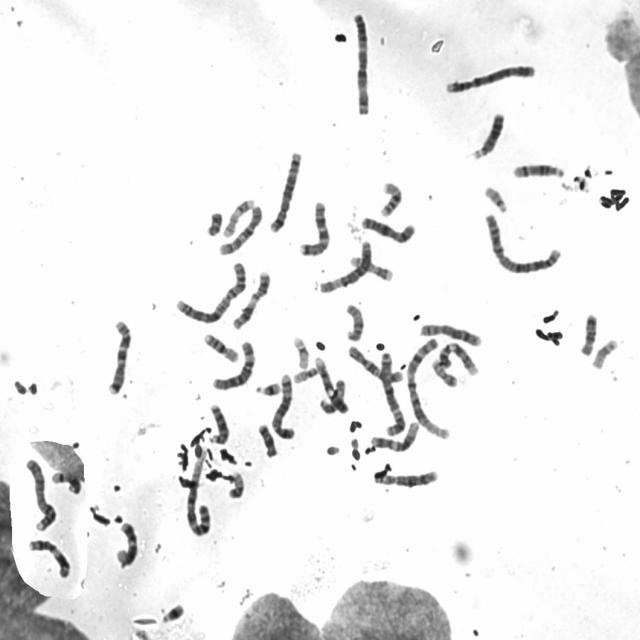A1: (403, 332, 453, 442), (182, 443, 214, 539)
A2: (481, 208, 565, 276), (171, 256, 249, 326)
A3: (376, 348, 408, 438), (348, 7, 374, 116)
B4: (441, 58, 538, 96), (21, 454, 59, 532)
B5: (266, 146, 304, 234), (269, 369, 297, 441)
C10: (216, 200, 265, 256), (344, 340, 406, 384)
C11: (228, 266, 274, 331), (25, 534, 72, 580)
C12: (368, 416, 421, 454), (112, 517, 140, 568)
C6: (316, 235, 375, 294), (209, 335, 258, 392)
C7: (103, 314, 134, 397), (295, 196, 332, 257)
C8: (417, 318, 484, 348), (370, 465, 440, 488)
C9: (311, 353, 350, 414), (434, 337, 480, 377)
D13: (469, 106, 507, 161), (206, 399, 232, 445)
D14: (510, 157, 568, 180), (48, 468, 84, 496)
D15: (316, 374, 348, 416), (341, 298, 367, 343)
E16: (200, 328, 241, 364), (376, 176, 405, 218)
E17: (219, 193, 257, 239), (346, 250, 396, 283)
E18: (577, 308, 600, 357), (254, 419, 280, 458)
F19: (588, 334, 621, 371), (289, 331, 312, 370)
F20: (428, 355, 460, 388), (226, 468, 247, 500)
G21: (157, 597, 187, 625), (251, 376, 283, 398)
G22: (481, 180, 510, 213), (290, 362, 320, 384)
X: (358, 211, 418, 244)
Y: (203, 206, 224, 237)
